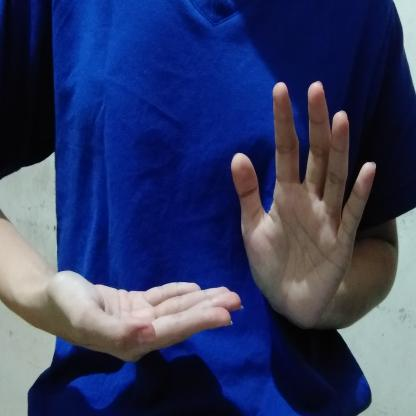hello: (34, 77, 383, 369)
